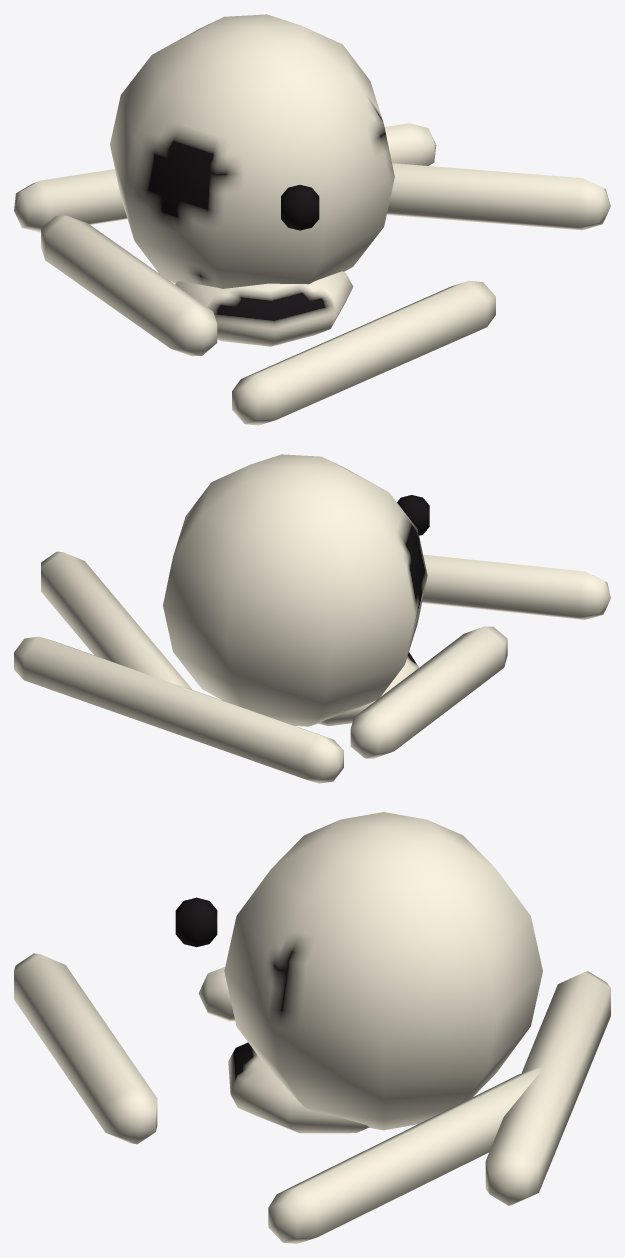
The model's file is prop_bonestrue_d294.glb.
3 views of the same model, one above another, from view 1: azimuth 30°, elevation 25°; view 2: azimuth 150°, elevation 25°; view 3: azimuth 270°, elevation 25° (orthographic). The views are drawn at different scales.
Parts seen in each view (by area): view 1: prop_bonestrue_d294; view 2: prop_bonestrue_d294; view 3: prop_bonestrue_d294.
Part boxes in pixels (<box>): prop_bonestrue_d294: <box>14,14,610,425</box>; prop_bonestrue_d294: <box>14,454,610,783</box>; prop_bonestrue_d294: <box>14,812,610,1243</box>.
Bounding box in the file's own units: 0.6952 × 0.3756 × 0.6788.
Materials: 1 (1 with a texture image).
